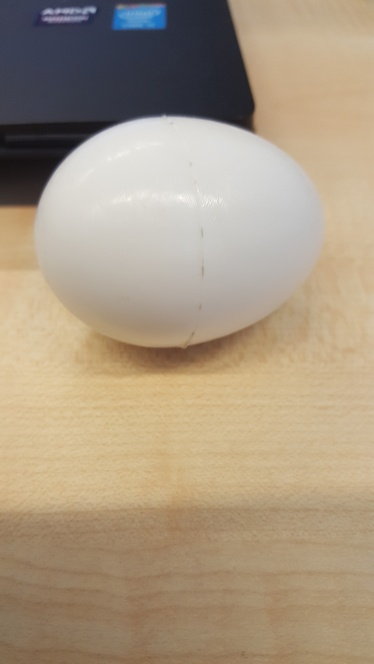egg: (32, 115, 323, 349)
